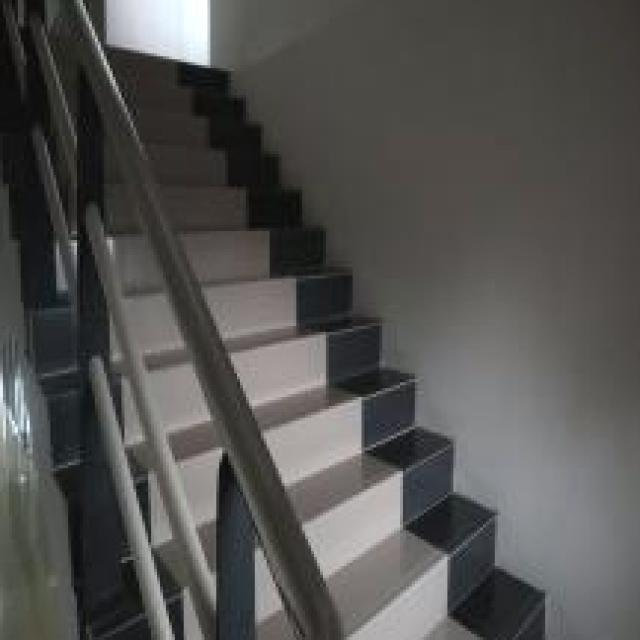upstair: (211, 215, 413, 452)
